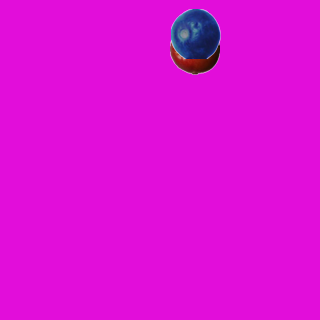Apple Braeburn: (169, 24, 219, 74)
Huckleberry: (170, 8, 220, 58)
